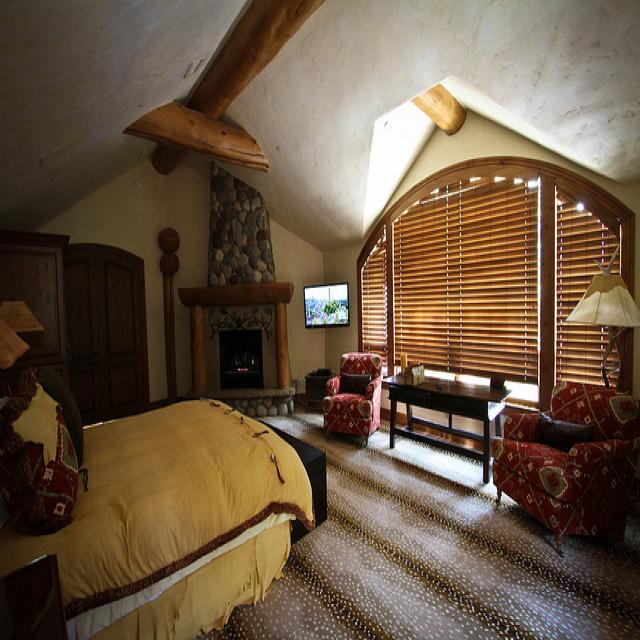chair: (493, 380, 638, 546), (323, 351, 382, 445)
dining table: (378, 361, 512, 482)
